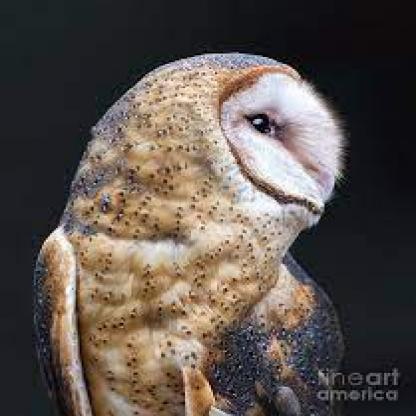owl: (60, 35, 414, 414)
